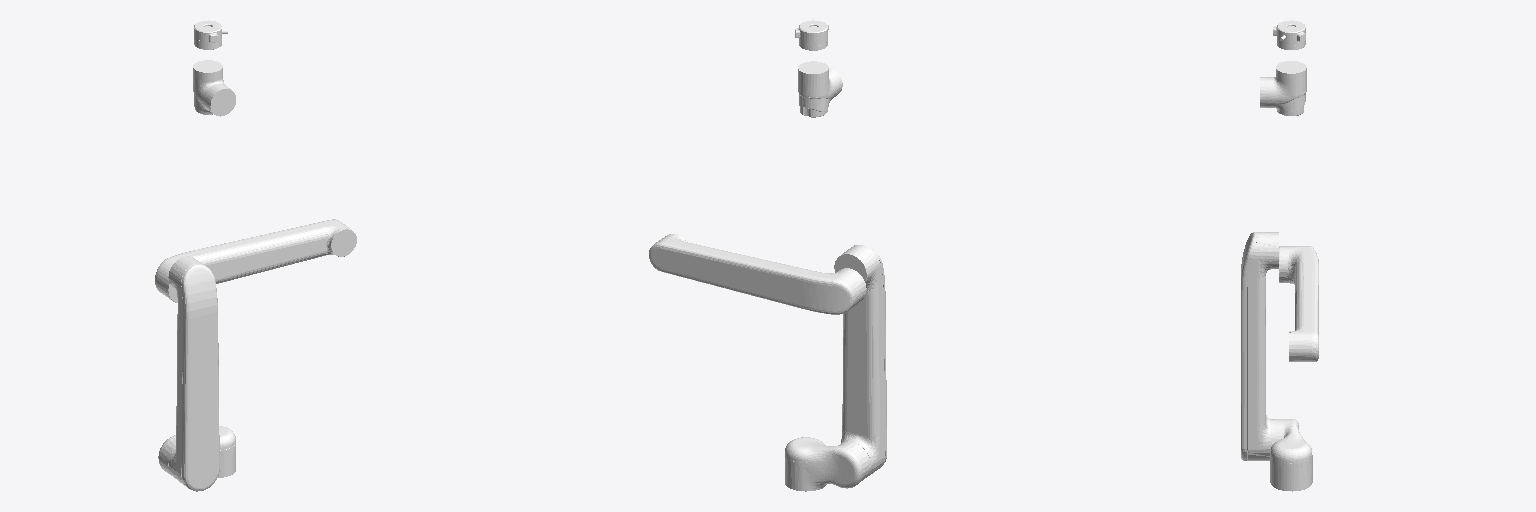
robot.urdf — rm_63_6f_description:
<?xml version='1.0' encoding='UTF-8'?>
<!-- This URDF was automatically created by SolidWorks to URDF Exporter! Originally created by Stephen Brawner (brawner@gmail.com)
     Commit Version: 1.6.0-1-g15f4949  Build Version: 1.6.7594.29634
     For more information, please see http://wiki.ros.org/sw_urdf_exporter-->
<robot name="rm_63_6f_description">
  <link name="base_link">
    <inertial>
      <origin xyz="0.0014213 -0.00010164 0.050087" rpy="0 0 0"/>
      <mass value="1.862"/>
      <inertia ixx="0.00099641" ixy="-3.2815E-06" ixz="1.0053E-05" iyy="0.0010164" iyz="-1.2859E-06" izz="0.00067934"/>
    </inertial>
    <visual>
      <origin xyz="0 0 0" rpy="0 0 0"/>
      <geometry>
        <mesh filename="package://rm_description/meshes/RML63_6F/base_link.STL"/>
      </geometry>
      <material name="">
        <color rgba="1 1 1 1"/>
      </material>
    </visual>
    <collision>
      <origin xyz="0 0 0" rpy="0 0 0"/>
      <geometry>
        <mesh filename="package://rm_description/meshes/RML63_6F/base_link.STL"/>
      </geometry>
    </collision>
  </link>
  <link name="Link1">
    <inertial>
      <origin xyz="-0.068442 -0.023913 -0.006938" rpy="0 0 0"/>
      <mass value="1.837"/>
      <inertia ixx="0.002323337" ixy="-0.000758998" ixz="0.000825985" iyy="0.003950377" iyz="0.000254693" izz="0.003921999"/>
    </inertial>
    <visual>
      <origin xyz="0 0 0" rpy="0 0 0"/>
      <geometry>
        <mesh filename="package://rm_description/meshes/RML63_6F/Link1.STL"/>
      </geometry>
      <material name="">
        <color rgba="1 1 1 1"/>
      </material>
    </visual>
    <collision>
      <origin xyz="0 0 0" rpy="0 0 0"/>
      <geometry>
        <mesh filename="package://rm_description/meshes/RML63_6F/Link1.STL"/>
      </geometry>
    </collision>
  </link>
  <joint name="joint1" type="revolute">
    <origin xyz="0 0 0.172" rpy="0 0 0"/>
    <parent link="base_link"/>
    <child link="Link1"/>
    <axis xyz="0 0 1"/>
    <limit lower="-3.106" upper="3.106" effort="60" velocity="3.14"/>
  </joint>
  <link name="Link2">
    <inertial>
      <origin xyz="0.1667 -0.000002 -0.09259" rpy="0 0 0"/>
      <mass value="2.006"/>
      <inertia ixx="0.001465511" ixy="-0.000001176" ixz="-0.000161533" iyy="0.030618537" iyz="0.00000004" izz="0.030971934"/>
    </inertial>
    <visual>
      <origin xyz="0 0 0" rpy="0 0 0"/>
      <geometry>
        <mesh filename="package://rm_description/meshes/RML63_6F/Link2.STL"/>
      </geometry>
      <material name="">
        <color rgba="1 1 1 1"/>
      </material>
    </visual>
    <collision>
      <origin xyz="0 0 0" rpy="0 0 0"/>
      <geometry>
        <mesh filename="package://rm_description/meshes/RML63_6F/Link2.STL"/>
      </geometry>
    </collision>
  </link>
  <joint name="joint2" type="revolute">
    <origin xyz="-0.086 0 0" rpy="1.5708 -1.5708 3.14"/>
    <parent link="Link1"/>
    <child link="Link2"/>
    <axis xyz="0 0 1"/>
    <limit lower="-3.106" upper="3.106" effort="60" velocity="3.14"/>
  </joint>
  <link name="Link3">
    <inertial>
      <origin xyz="0.033399 -0.029498 -0.017697" rpy="0 0 0"/>
      <mass value="1.961"/>
      <inertia ixx="0.004112772" ixy="0.001938241" ixz="-0.001141244" iyy="0.0042931" iyz="0.001002886" izz="0.005363959"/>
    </inertial>
    <visual>
      <origin xyz="0 0 0" rpy="0 0 0"/>
      <geometry>
        <mesh filename="package://rm_description/meshes/RML63_6F/Link3.STL"/>
      </geometry>
      <material name="">
        <color rgba="1 1 1 1"/>
      </material>
    </visual>
    <collision>
      <origin xyz="0 0 0" rpy="0 0 0"/>
      <geometry>
        <mesh filename="package://rm_description/meshes/RML63_6F/Link3.STL"/>
      </geometry>
    </collision>
  </link>
  <joint name="joint3" type="revolute">
    <origin xyz="0.38 0 0" rpy="0 0 1.5708"/>
    <parent link="Link2"/>
    <child link="Link3"/>
    <axis xyz="0 0 1"/>
    <limit lower="-3.106" upper="2.5307" effort="30" velocity="3.14"/>
  </joint>
  <link name="Link4">
    <inertial>
      <origin xyz="0 -0.035177 -0.1844" rpy="0 0 0"/>
      <mass value="1.201"/>
      <inertia ixx="0.010697086" ixy="-0.000000036" ixz="0.000000111" iyy="0.009929454" iyz="0.002698114" izz="0.001388994"/>
    </inertial>
    <visual>
      <origin xyz="0 0 0" rpy="0 0 0"/>
      <geometry>
        <mesh filename="package://rm_description/meshes/RML63_6F/Link4.STL"/>
      </geometry>
      <material name="">
        <color rgba="1 1 1 1"/>
      </material>
    </visual>
    <collision>
      <origin xyz="0 0 0" rpy="0 0 0"/>
      <geometry>
        <mesh filename="package://rm_description/meshes/RML63_6F/Link4.STL"/>
      </geometry>
    </collision>
  </link>
  <joint name="joint4" type="revolute">
    <origin xyz="0.069 -0.405 0" rpy="1.5708 0 0"/>
    <parent link="Link3"/>
    <child link="Link4"/>
    <axis xyz="0 0 1"/>
    <limit lower="-3.106" upper="3.106" effort="30" velocity="3.14"/>
  </joint>
  <link name="Link5">
    <inertial>
      <origin xyz="-0.000031 0.030146 -0.012341" rpy="0 0 0"/>
      <mass value="1.026"/>
      <inertia ixx="0.001643891" ixy="-0.000003076" ixz="0.000000764" iyy="0.000673543" iyz="-0.000383963" izz="0.001451996"/>
    </inertial>
    <visual>
      <origin xyz="0 0 0" rpy="0 0 0"/>
      <geometry>
        <mesh filename="package://rm_description/meshes/RML63_6F/Link5.STL"/>
      </geometry>
      <material name="">
        <color rgba="1 1 1 1"/>
      </material>
    </visual>
    <collision>
      <origin xyz="0 0 0" rpy="0 0 0"/>
      <geometry>
        <mesh filename="package://rm_description/meshes/RML63_6F/Link5.STL"/>
      </geometry>
    </collision>
  </link>
  <joint name="joint5" type="revolute">
    <origin xyz="0 0 0" rpy="1.5708 0 3.1416"/>
    <parent link="Link4"/>
    <child link="Link5"/>
    <axis xyz="0 0 1"/>
    <limit lower="-3.106" upper="3.106" effort="10" velocity="3.14"/>
  </joint>
  <link name="Link6">
    <inertial>
      <origin xyz="-0.000481 0.000365 -0.010605" rpy="0 0 0"/>
      <mass value="0.248"/>
      <inertia ixx="0.000041460" ixy="-0.000003111" ixz="-0.000000113" iyy="0.000038008" iyz="0.000000097" izz="0.000064288"/>
    </inertial>
    <visual>
      <origin xyz="0 0 0" rpy="0 0 0"/>
      <geometry>
        <mesh filename="package://rm_description/meshes/RML63_6F/Link6.STL"/>
      </geometry>
      <material name="">
        <color rgba="1 1 1 1"/>
      </material>
    </visual>
    <collision>
      <origin xyz="0 0 0" rpy="0 0 0"/>
      <geometry>
        <mesh filename="package://rm_description/meshes/RML63_6F/Link6.STL"/>
      </geometry>
    </collision>
  </link>
  <joint name="joint6" type="revolute">
    <origin xyz="0 0.1436 0" rpy="1.5708 0 3.1416"/>
    <parent link="Link5"/>
    <child link="Link6"/>
    <axis xyz="0 0 1"/>
    <limit lower="-6.28" upper="6.28" effort="10" velocity="3.14"/>
  </joint>
</robot>

--- Render facts (derived) ---
3 views of the same robot in one strip: view 1: azimuth 30°, elevation 25°; view 2: azimuth 150°, elevation 25°; view 3: azimuth 270°, elevation 25° (orthographic).
Model rm_63_6f_description with 7 links and 6 joints (6 revolute), rooted at base_link, posed all joints at 0.
Visible links, largest first — view 1: Link2, Link3, Link1, Link5, Link4, Link6; view 2: Link3, Link2, Link1, Link4, Link6, Link5; view 3: Link2, Link3, Link1, Link4, Link6, Link5.
Boxes of the visible links, box(x1,y1,x2,y2) form: Link2: box(168, 256, 219, 491); Link3: box(155, 219, 356, 302); Link1: box(158, 426, 235, 477); Link5: box(194, 82, 235, 116); Link4: box(193, 60, 226, 110); Link6: box(194, 20, 227, 49); Link3: box(649, 234, 866, 314); Link2: box(834, 245, 886, 477); Link1: box(785, 437, 870, 491); Link4: box(798, 61, 838, 98); Link6: box(795, 20, 828, 50); Link5: box(799, 68, 842, 117); Link2: box(1241, 232, 1278, 460); Link3: box(1279, 246, 1318, 361); Link1: box(1270, 419, 1312, 491); Link4: box(1267, 61, 1306, 106); Link6: box(1273, 20, 1305, 49); Link5: box(1260, 77, 1305, 115).
Size in the robot's own frame: 0.4533 by 0.1539 by 0.9811 metres.
Meshes: 7 distinct files referenced, 6 mesh visuals loaded (6 binary STL); not drawn: 1 (reference not matched to a file when rendering).
